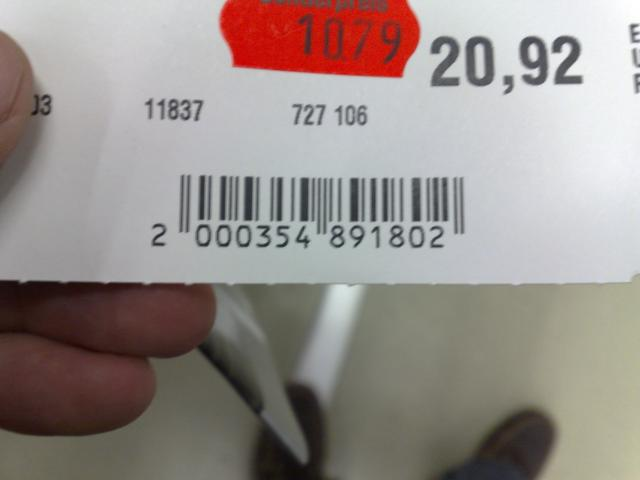Barkod: (177, 171, 467, 224)
